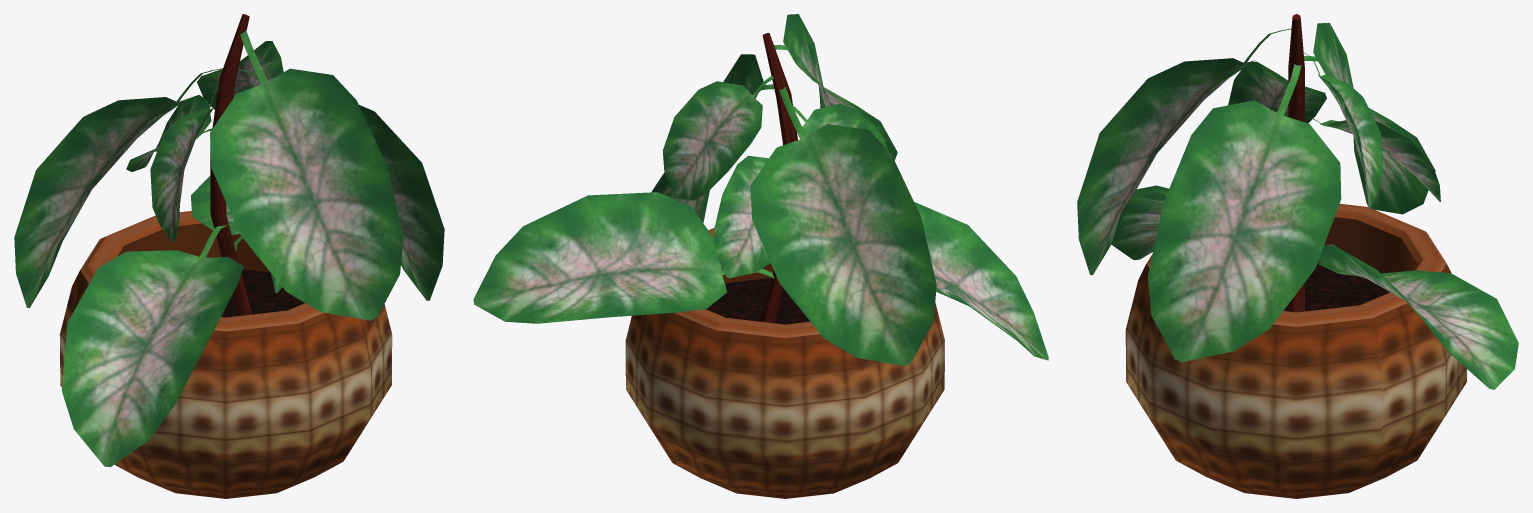
Rendered from caladium_plant.glb.
3 views of the same model, side by side, from view 1: azimuth 30°, elevation 25°; view 2: azimuth 150°, elevation 25°; view 3: azimuth 270°, elevation 25° (orthographic). The views are drawn at different scales.
Parts seen in each view (by area): view 1: planta02__0; view 2: planta02__0; view 3: planta02__0.
Boxes of the visible parts, x1,y1,x2,y2 form: planta02__0: (14,14,444,498); planta02__0: (473,14,1048,498); planta02__0: (1077,14,1518,498).
Size of the model in its own units: 23.32 by 22.31 by 19.87.
1 material, 1 textured.
